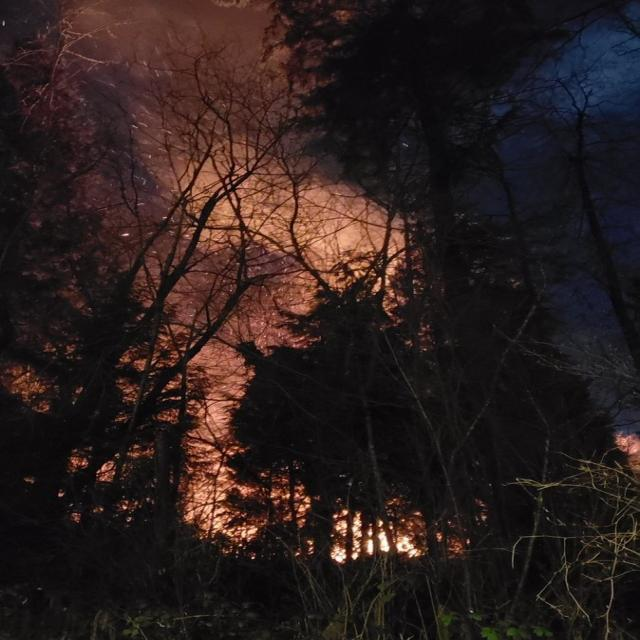Smoke: (0, 0, 441, 330)
